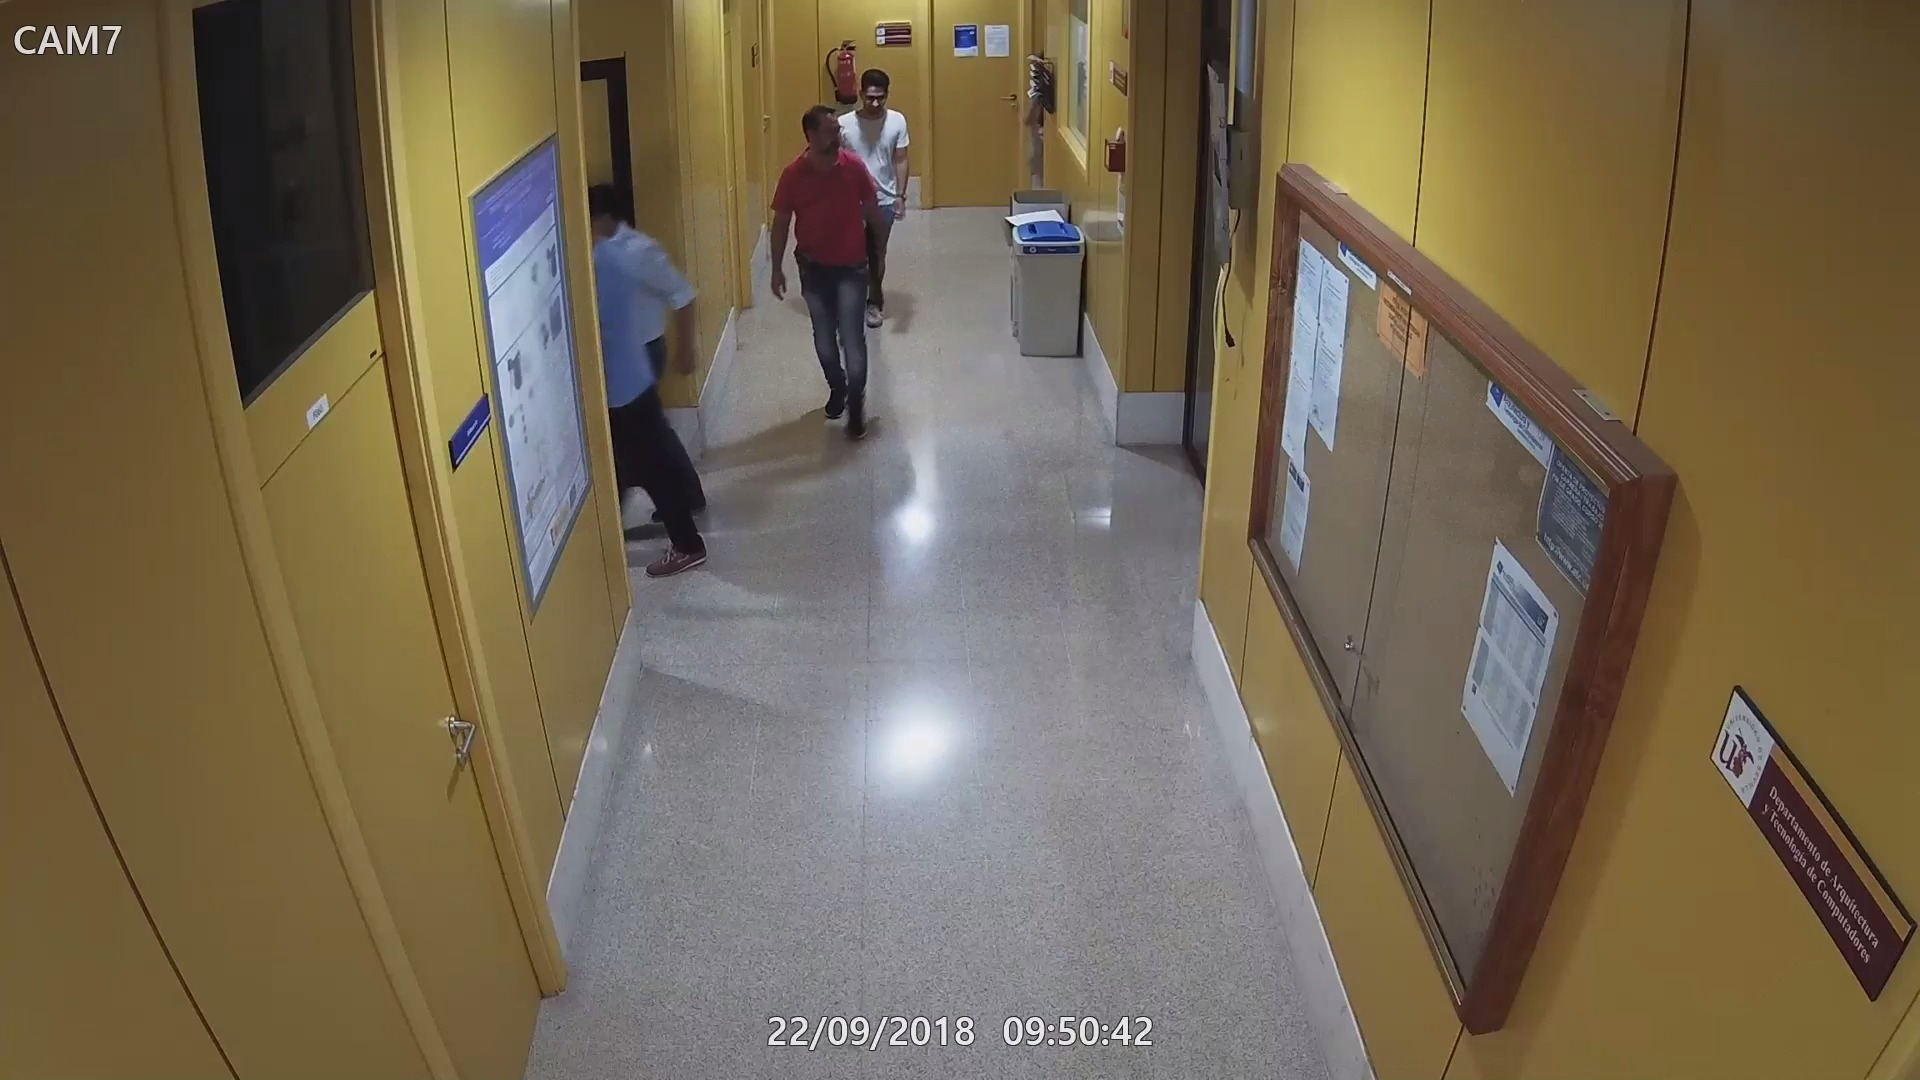rifle: (858, 222, 885, 310)
